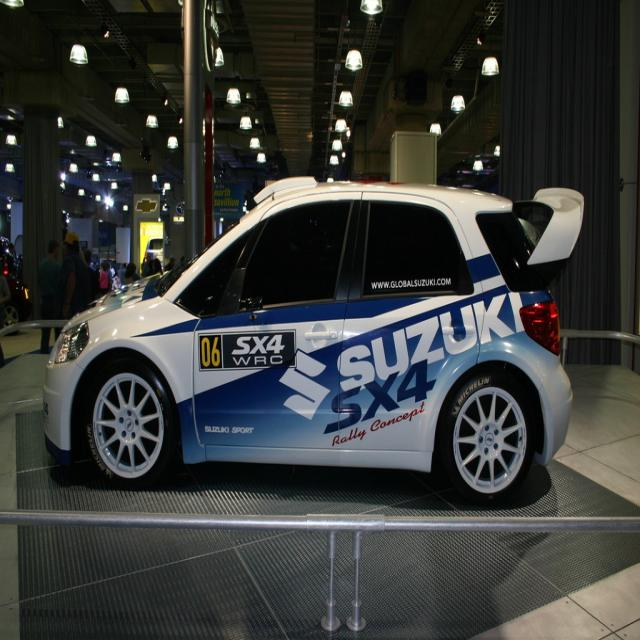car: (46, 176, 585, 503)
